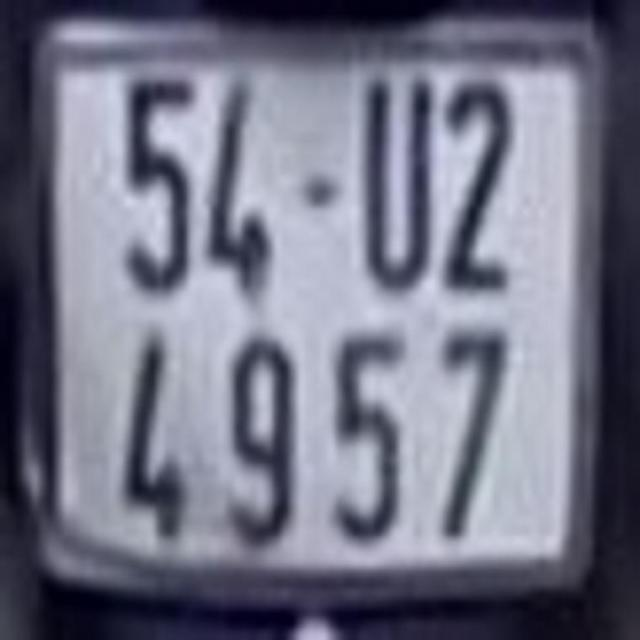2: (442, 73, 514, 297)
4: (120, 319, 194, 547), (209, 65, 273, 289)
5: (328, 322, 404, 543), (121, 76, 195, 292)
7: (430, 319, 510, 540)
9: (220, 330, 296, 543)
U: (358, 70, 438, 294)
